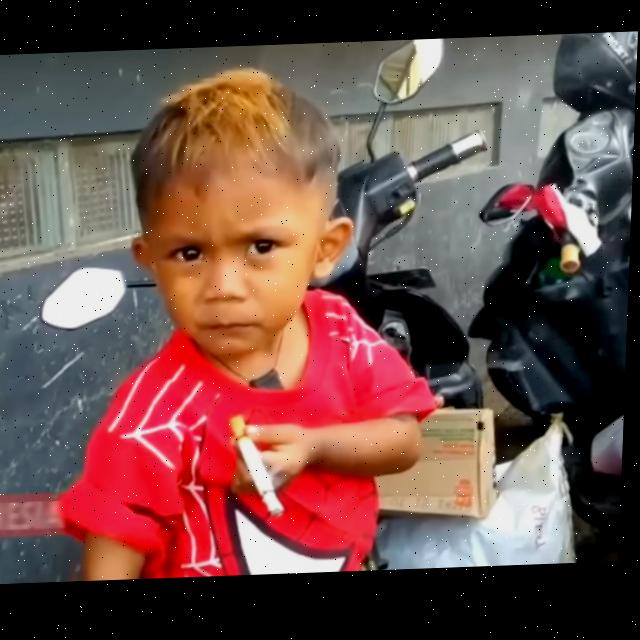cigarette: (229, 415, 291, 521)
